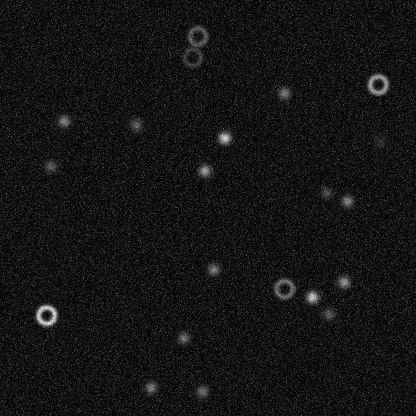Ring: (272, 276, 296, 300), (365, 72, 389, 96), (185, 24, 209, 48), (180, 45, 204, 69), (34, 303, 58, 327)
Spot: (127, 116, 143, 132), (55, 112, 71, 128), (216, 129, 232, 145), (276, 85, 292, 101), (196, 162, 212, 178), (205, 261, 221, 277), (318, 184, 334, 200), (339, 192, 355, 208), (320, 305, 336, 321), (175, 330, 191, 346), (303, 288, 319, 304), (142, 379, 158, 395), (335, 273, 351, 289), (371, 133, 387, 149), (193, 383, 209, 399), (42, 157, 58, 173)
